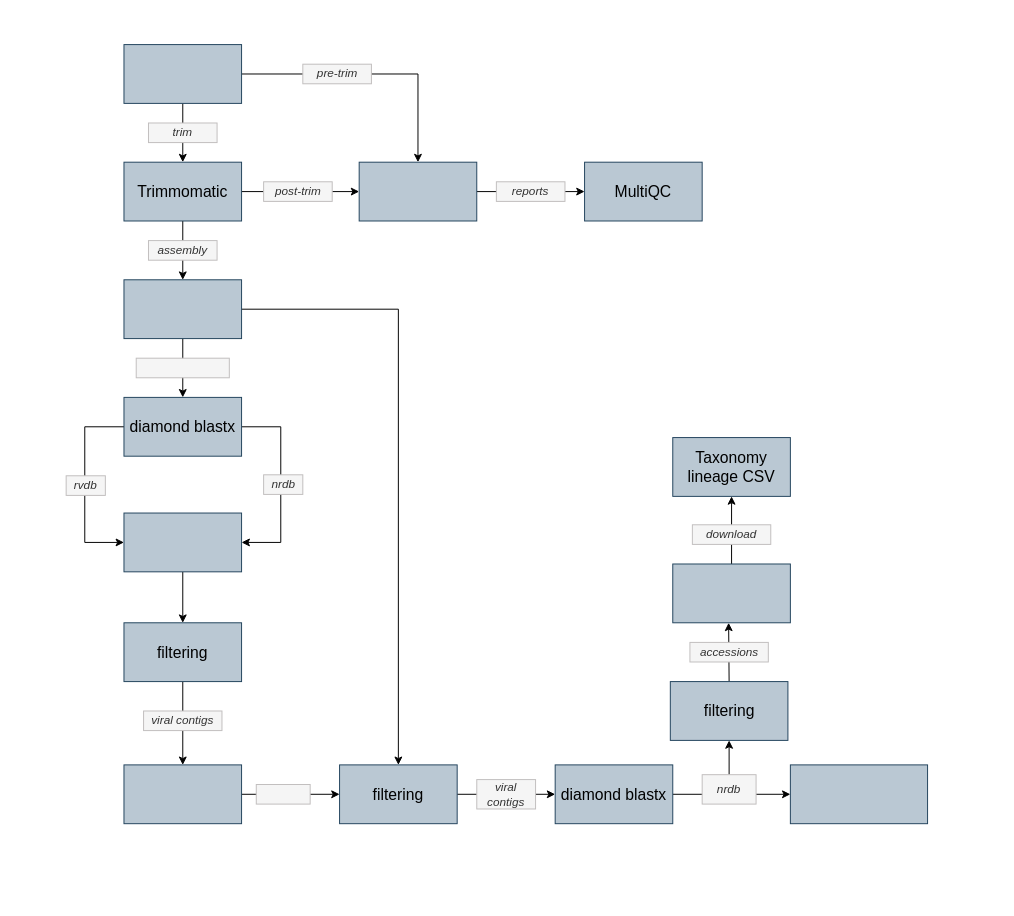
Image size: 1014x916. Some labels were removed from this diagram. The centre of each missing label's shape, as x and y in pixels:
"Accessions list" belongs at (x=731, y=593).
"Align and estimate abundance" belongs at (x=858, y=794).
"combined results" belongs at (x=182, y=542).
"FastQC" belongs at (x=417, y=191).
"Magahit" belongs at (x=182, y=309).
"NCBI blastn" belongs at (x=182, y=794).
"ntdb" belongs at (x=282, y=794).
"Raw reads" belongs at (x=182, y=73).
"sample.contig.fa" belongs at (x=182, y=367).
